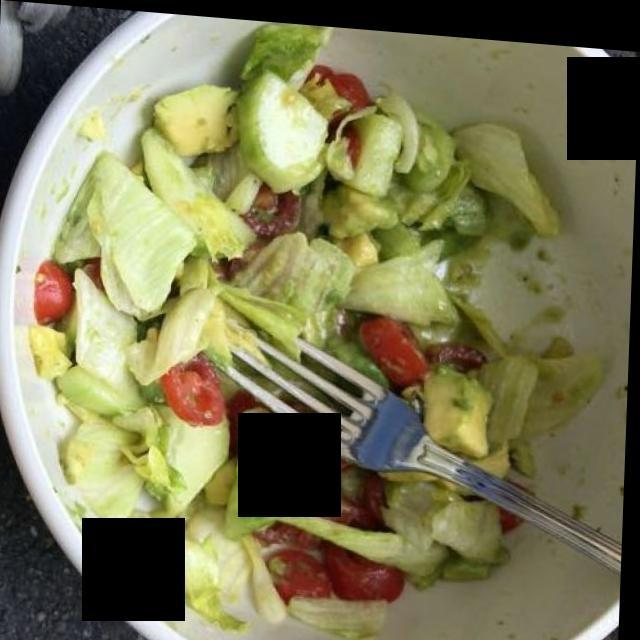salad: (43, 38, 606, 634)
